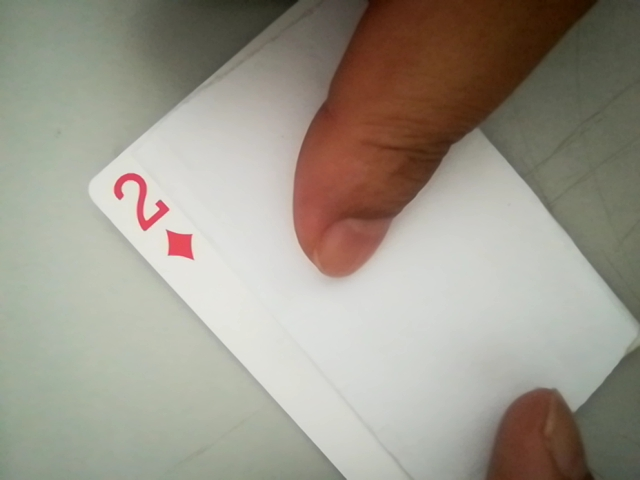fk 2: (103, 161, 206, 271)
